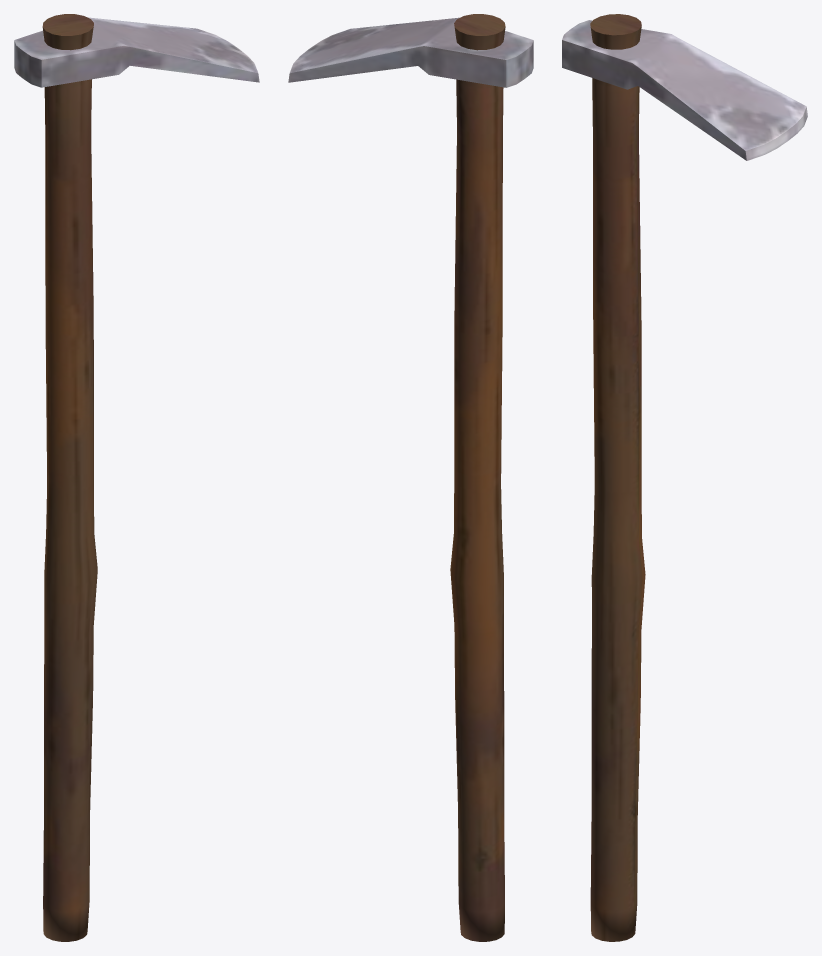
The model's file is Hoe_Steel.gltf.
3 renders of one model, left to right at view 1: azimuth 30°, elevation 25°; view 2: azimuth 150°, elevation 25°; view 3: azimuth 330°, elevation 25°, orthographic.
Parts seen in each view (by area): view 1: Hoe_Steel; view 2: Hoe_Steel; view 3: Hoe_Steel.
Boxes of the visible parts, x1=… form: Hoe_Steel: x1=14, y1=14, x2=259, y2=941; Hoe_Steel: x1=288, y1=14, x2=533, y2=941; Hoe_Steel: x1=562, y1=14, x2=807, y2=941.
Bounding box in the file's own units: 0.2558 × 1.02 × 0.1248.
1 material, 1 textured.
